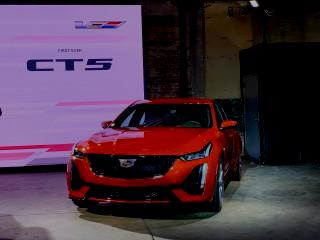cadillac: (113, 154, 142, 171)
